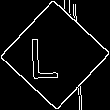L_N: (39, 29, 71, 81)
